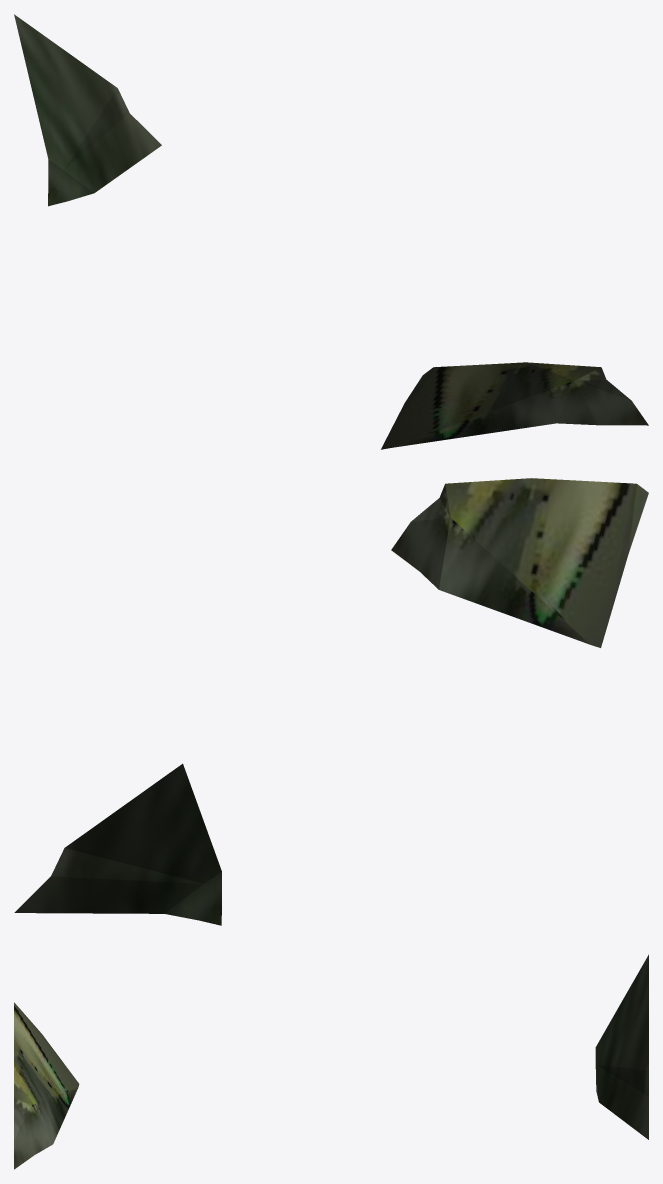
3 renders of one model, top to bottom at view 1: azimuth 30°, elevation 25°; view 2: azimuth 150°, elevation 25°; view 3: azimuth 270°, elevation 25°, orthographic. The views are drawn at different scales.
Bounding box in the file's own units: 0.9423 × 0.666 × 2.95.
Materials: 1 (1 with a texture image).
